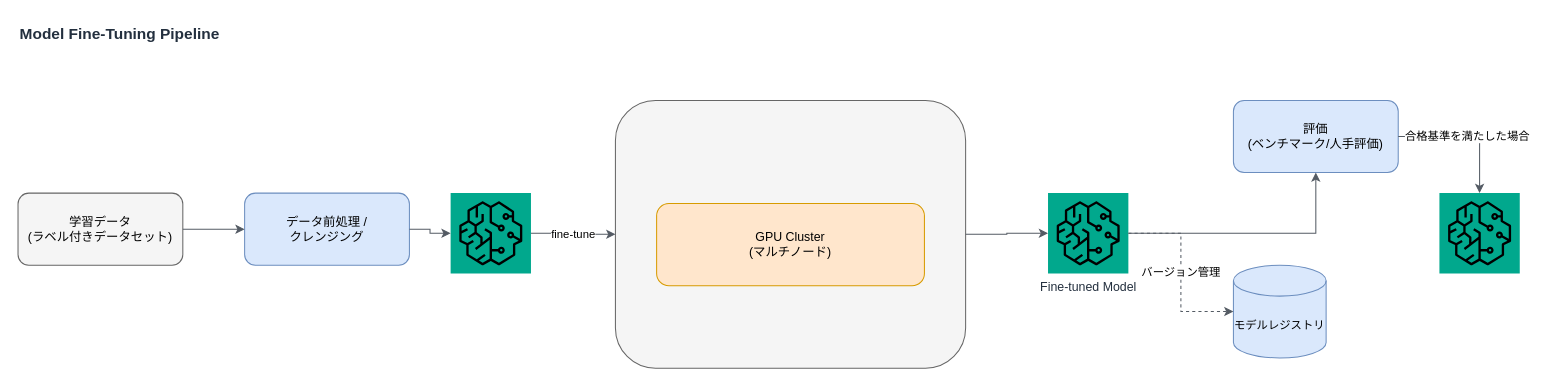
Some shapes in this 1553 by 386 pixel diagram are drawn without their labels. Each missing label, with the box of its shape:
ベースモデル: (450, 193, 530, 273)
学習ジョブ (分散学習): (614, 99, 966, 368)
推論エンドポイント へデプロイ: (1439, 193, 1519, 273)
